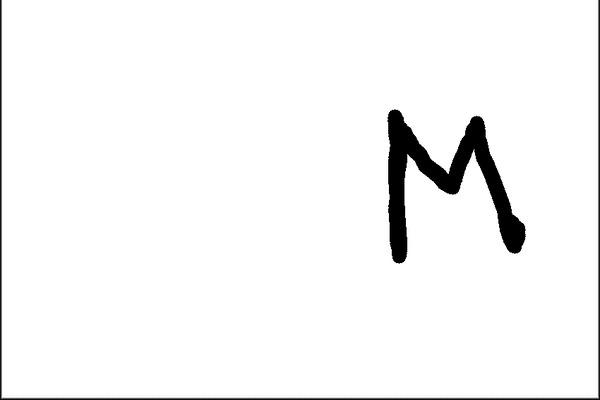M: (383, 104, 528, 259)
